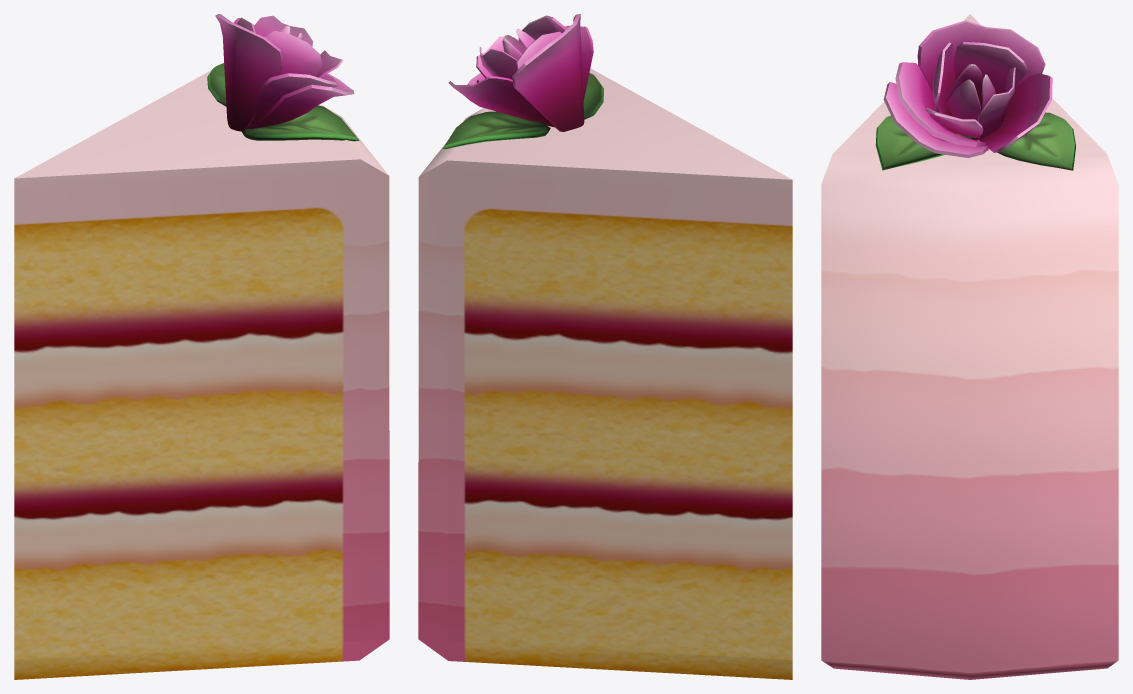
The model's file is Wedding_01_Slice_Middle.fbx.
3 views of the same model, side by side, from view 1: azimuth 30°, elevation 25°; view 2: azimuth 150°, elevation 25°; view 3: azimuth 270°, elevation 25° (orthographic). The views are drawn at different scales.
Parts seen in each view (by area): view 1: Wedding_01_Slice_Middle; view 2: Wedding_01_Slice_Middle; view 3: Wedding_01_Slice_Middle.
Part boxes in pixels (<box>): Wedding_01_Slice_Middle: <box>14,14,389,679</box>; Wedding_01_Slice_Middle: <box>418,14,792,679</box>; Wedding_01_Slice_Middle: <box>821,14,1118,679</box>.
Size of the model in its own units: 44.63 by 78.37 by 34.19.
